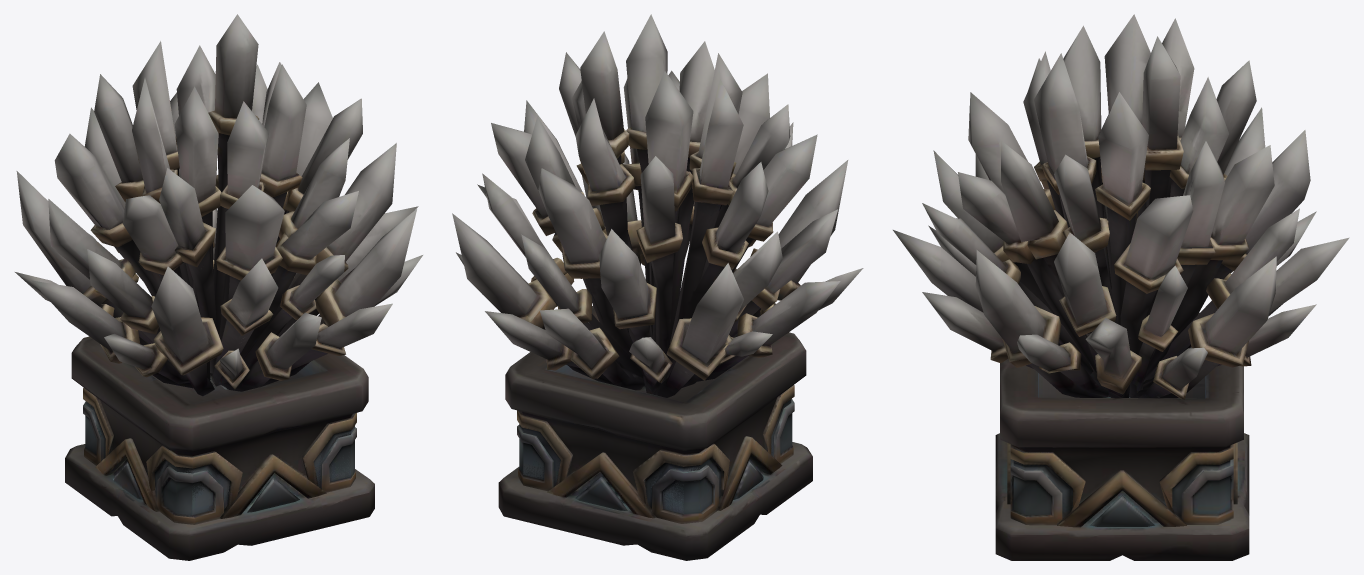
File: metal_restrain_t1.glb
3 renders of one model, left to right at view 1: azimuth 30°, elevation 25°; view 2: azimuth 150°, elevation 25°; view 3: azimuth 270°, elevation 25°, orthographic. The views are drawn at different scales.
Visible parts, largest first — view 1: tripo_node_e68924c4-17b7-4bff-9390-a359835b23ae; view 2: tripo_node_e68924c4-17b7-4bff-9390-a359835b23ae; view 3: tripo_node_e68924c4-17b7-4bff-9390-a359835b23ae.
Boxes of the visible parts, x1,y1,x2,y2 form: tripo_node_e68924c4-17b7-4bff-9390-a359835b23ae: [15, 14, 422, 560]; tripo_node_e68924c4-17b7-4bff-9390-a359835b23ae: [452, 14, 863, 560]; tripo_node_e68924c4-17b7-4bff-9390-a359835b23ae: [893, 14, 1349, 560].
Bounding box in the file's own units: 0.8457 × 0.998 × 0.8457.
1 material, 1 textured.
